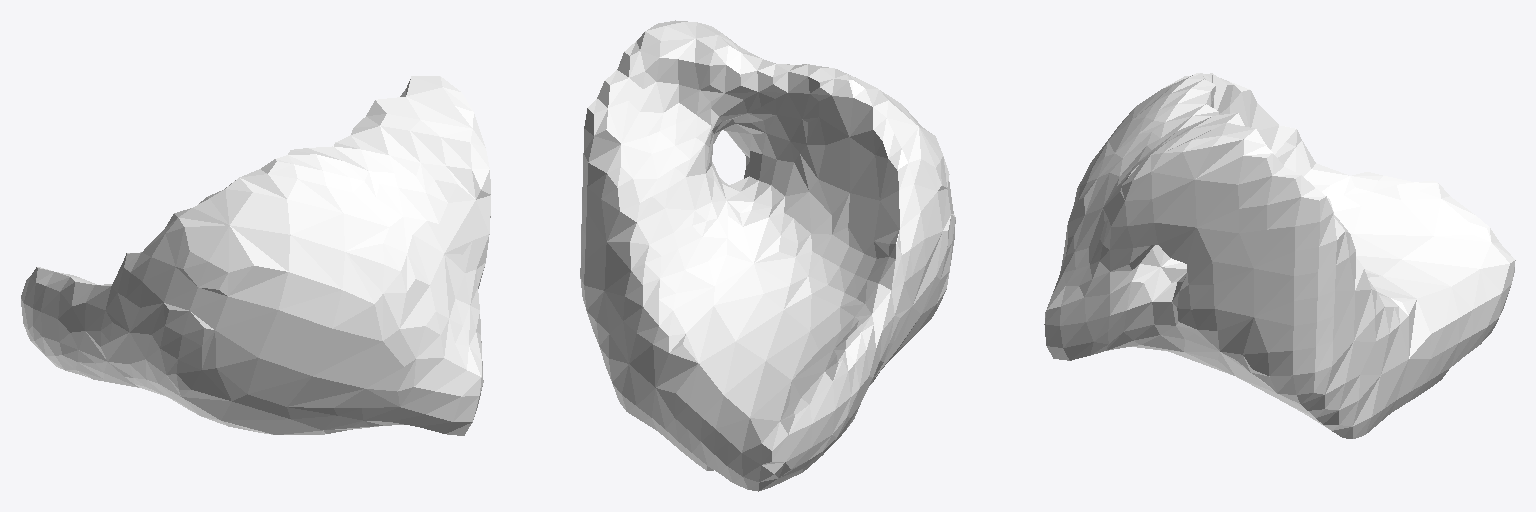
robot.urdf — urdf_robot:
<?xml version="1.0" ?>
<robot name="urdf_robot">
  <link name="base_link">
    <contact>
      <rolling_friction value="0.001"/>
      <spinning_friction value="0.001"/>
    </contact>
    <inertial>
      <origin rpy="0 0 0" xyz="0 0 0"/>
       <mass value=".1"/>
       <inertia ixx="1" ixy="0" ixz="0" iyy="1" iyz="0" izz="1"/>
    </inertial>
    <visual>
      <origin rpy="0 0 45" xyz="0 0 0"/>
      <geometry>
        <mesh filename="liver2.obj" scale="1.0 1.0 1.0"/>
        <!-- <mesh filename="textured_sphere_smooth.obj" scale="0.03 0.03 1"/>       -->
      </geometry>
      <material name="white">
        <color rgba="1 1 1 1"/>
      </material>
    </visual>
    <collision>
      <origin rpy="0 0 45" xyz="0 0 0"/>
      <geometry>
        <mesh filename="liver2.obj" scale="1.0 1.0 1.0"/>
        <!-- <mesh filename="textured_sphere_smooth.obj" scale="0.03 0.03 1"/>       -->
      </geometry>
    </collision>
  </link>
</robot>

--- Facts derived from the render (not from the file) ---
Views: 3 orthographic renders of the robot side by side, from view 1: azimuth 30°, elevation 25°; view 2: azimuth 150°, elevation 25°; view 3: azimuth 270°, elevation 25°.
Model urdf_robot with 1 links and 0 joints (none), rooted at base_link, posed all joints at 0.
Links seen in each view (by area): view 1: base_link; view 2: base_link; view 3: base_link.
Boxes of the visible links, x1,y1,x2,y2 form: base_link: (21, 76, 490, 435); base_link: (580, 20, 955, 491); base_link: (1044, 73, 1515, 438).
Size in the robot's own frame: 0.2737 by 0.3466 by 0.2586 metres.
Meshes: 1 distinct files referenced, 1 mesh visuals loaded (1 OBJ).